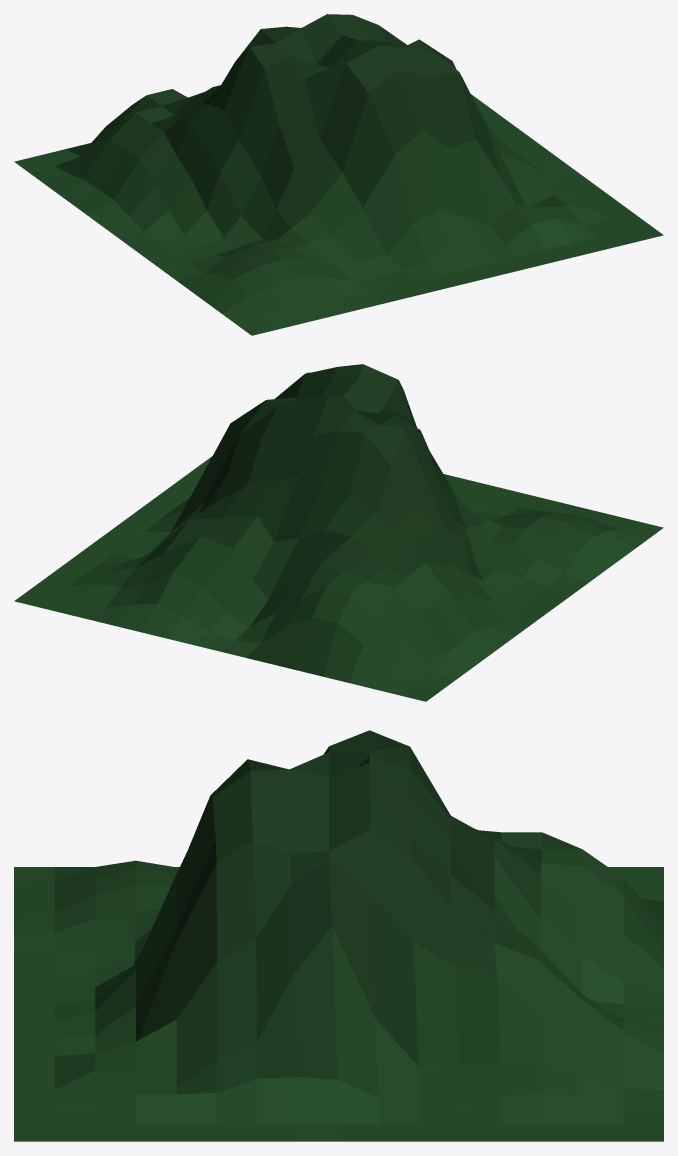
Rendered from Terrain_24_Dark_Green.fbx.
The picture shows the model from 3 angles, top to bottom: view 1: azimuth 30°, elevation 25°; view 2: azimuth 150°, elevation 25°; view 3: azimuth 270°, elevation 25°; orthographic projection. The views are drawn at different scales.
Parts seen in each view (by area): view 1: Terrain_24_Dark_Green; view 2: Terrain_24_Dark_Green; view 3: Terrain_24_Dark_Green.
Part boxes in pixels (x1,y1,x2,y2): Terrain_24_Dark_Green: (14, 14, 663, 335); Terrain_24_Dark_Green: (14, 364, 663, 701); Terrain_24_Dark_Green: (14, 730, 663, 1141).
Bounding box in the file's own units: 5000 × 2045 × 5000.
